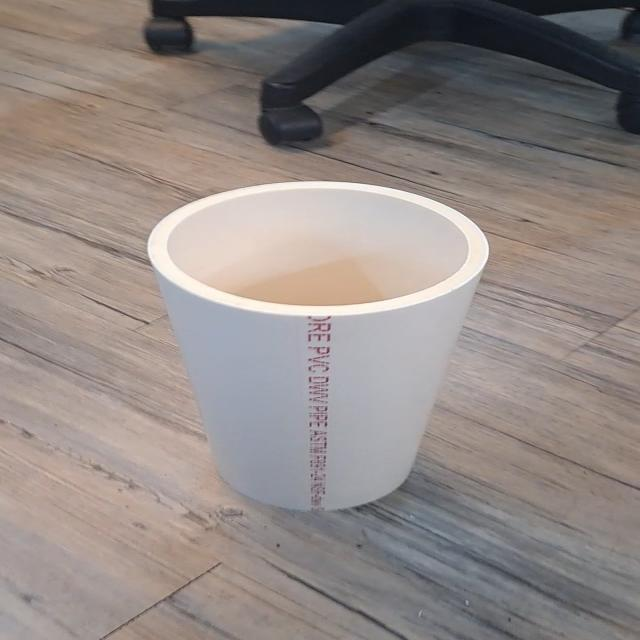CORAL: (137, 170, 528, 520)
